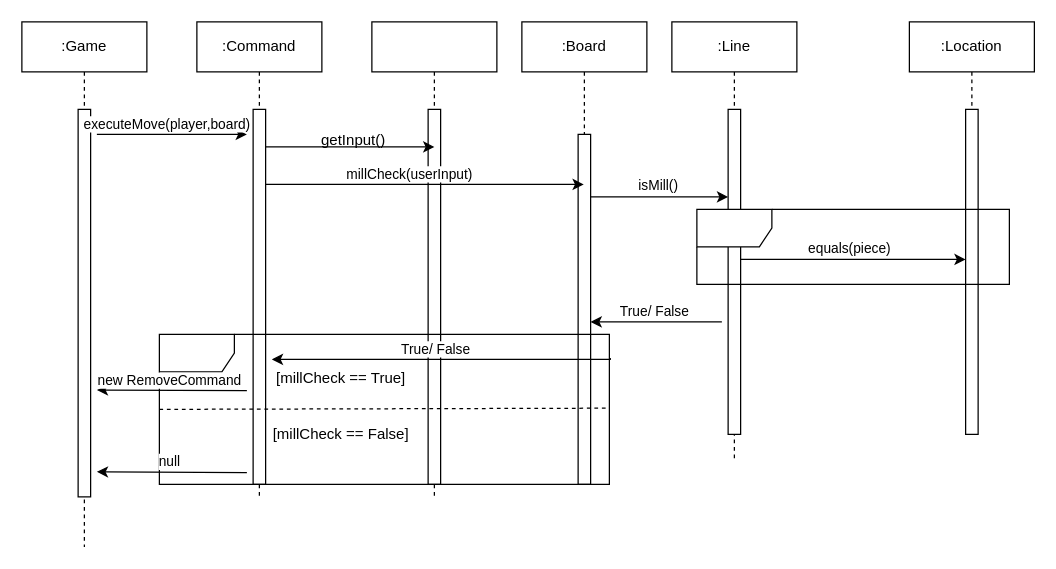
This 1056x569 diagram has some shape labels left out. Each missing label, with the box of its shape:
:Display: (371, 21, 497, 497)
alt: (158, 333, 609, 484)
For each Location: (696, 208, 1009, 284)
